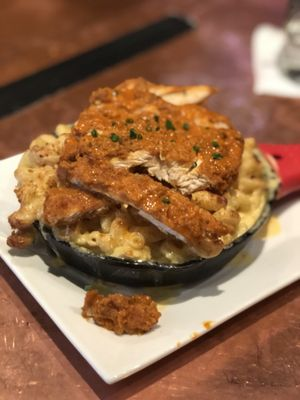soup: (9, 77, 259, 276)
